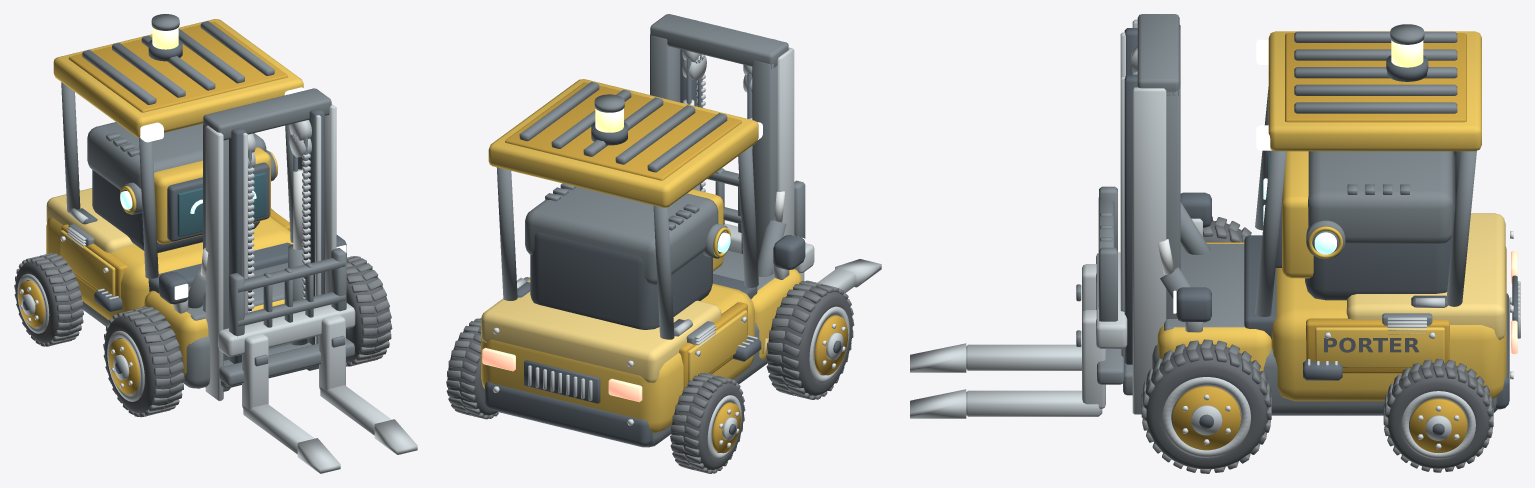
Rendered from porter_ultra.glb.
3 renders of one model, left to right at view 1: azimuth 30°, elevation 25°; view 2: azimuth 150°, elevation 25°; view 3: azimuth 270°, elevation 25°, orthographic. The views are drawn at different scales.
Visible parts, largest first — view 1: Forks_steel, RoofInset_shadowpaint, OuterMast_steel, Roof_paint, LoadBackrest_frame, RobotCab_frame, Counterweight_paint, SafetyCage_frame, RoofRibs_frame, MastCrossbar_frame, InnerMast_black, Wheel_L_1_Tread_tread (+35 smaller); view 2: RobotCab_black, EngineCover_lightpaint, RobotCab_frame, Roof_paint, Counterweight_paint, RoofInset_shadowpaint, SafetyCage_frame, OuterMast_frame, RoofRibs_frame, RearBumper_black, MastCrossbar_frame, Wheel_L_1_Tread_tread (+31 smaller); view 3: RobotCab_frame, Forks_steel, Counterweight_paint, OuterMast_steel, Roof_paint, RoofRibs_frame, RoofInset_shadowpaint, RobotCab_black, EngineCover_lightpaint, SafetyCage_frame, Wheel_R_1_Tire_rubber, SidePanel_paint (+31 smaller).
Part boxes in pixels (x1,y1,x2,y2): Forks_steel: [242, 314, 417, 473]; RoofInset_shadowpaint: [68, 21, 287, 112]; OuterMast_steel: [205, 104, 336, 400]; Roof_paint: [53, 19, 303, 137]; LoadBackrest_frame: [229, 248, 346, 336]; RobotCab_frame: [87, 122, 266, 189]; Counterweight_paint: [46, 216, 293, 319]; SafetyCage_frame: [61, 82, 293, 278]; RoofRibs_frame: [82, 21, 274, 104]; MastCrossbar_frame: [203, 88, 331, 388]; InnerMast_black: [229, 108, 324, 363]; Wheel_L_1_Tread_tread: [103, 306, 184, 417]; RobotCab_black: [530, 232, 712, 329]; EngineCover_lightpaint: [481, 279, 721, 382]; RobotCab_frame: [525, 187, 718, 285]; Roof_paint: [488, 79, 758, 207]; Counterweight_paint: [481, 283, 754, 432]; RoofInset_shadowpaint: [505, 82, 741, 180]; SafetyCage_frame: [496, 146, 758, 339]; OuterMast_frame: [650, 34, 777, 258]; RoofRibs_frame: [519, 81, 727, 172]; RearBumper_black: [485, 381, 652, 446]; MastCrossbar_frame: [650, 14, 788, 69]; Wheel_L_1_Tread_tread: [766, 280, 854, 399]; RobotCab_frame: [1308, 151, 1453, 244]; Forks_steel: [910, 264, 1105, 418]; Counterweight_paint: [1271, 246, 1506, 401]; OuterMast_steel: [1132, 19, 1166, 414]; Roof_paint: [1268, 31, 1481, 151]; RoofRibs_frame: [1294, 31, 1457, 113]; RoofInset_shadowpaint: [1285, 33, 1466, 122]; RobotCab_black: [1305, 151, 1455, 300]; EngineCover_lightpaint: [1346, 213, 1505, 339]; SafetyCage_frame: [1255, 87, 1476, 316]; Wheel_R_1_Tire_rubber: [1143, 344, 1268, 469]; SidePanel_paint: [1315, 327, 1444, 367].
Size of the model in its own units: 1.75 by 1.97 by 2.92.
